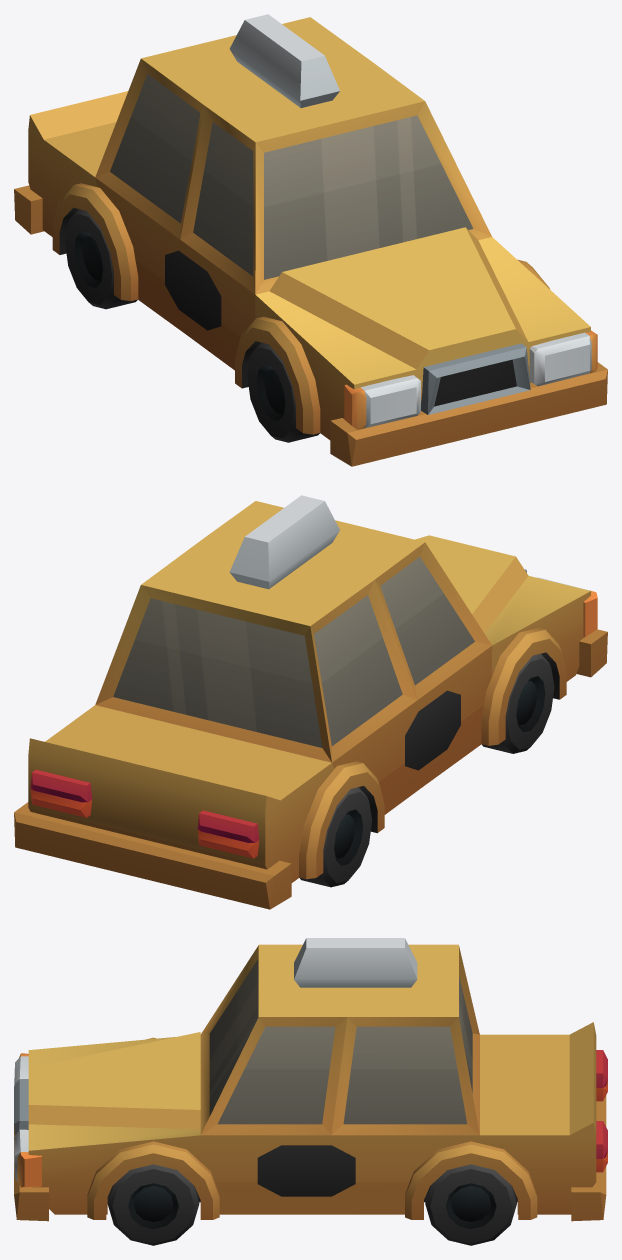
Rendered from car_taxi.fbx.
The picture shows the model from 3 angles, top to bottom: view 1: azimuth 30°, elevation 25°; view 2: azimuth 150°, elevation 25°; view 3: azimuth 270°, elevation 25°; orthographic projection. The views are drawn at different scales.
Parts seen in each view (by area): view 1: car_taxi; view 2: car_taxi; view 3: car_taxi.
Part boxes in pixels (<box>): car_taxi: <box>14,14,607,466</box>; car_taxi: <box>14,495,607,909</box>; car_taxi: <box>14,938,607,1245</box>.
Size of the model in its own units: 41.9 by 43.45 by 93.81.
